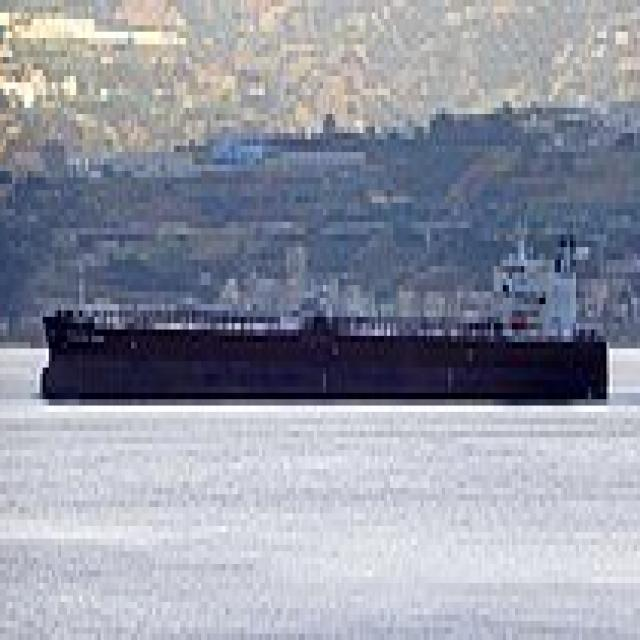Tanker: (37, 203, 616, 399)
